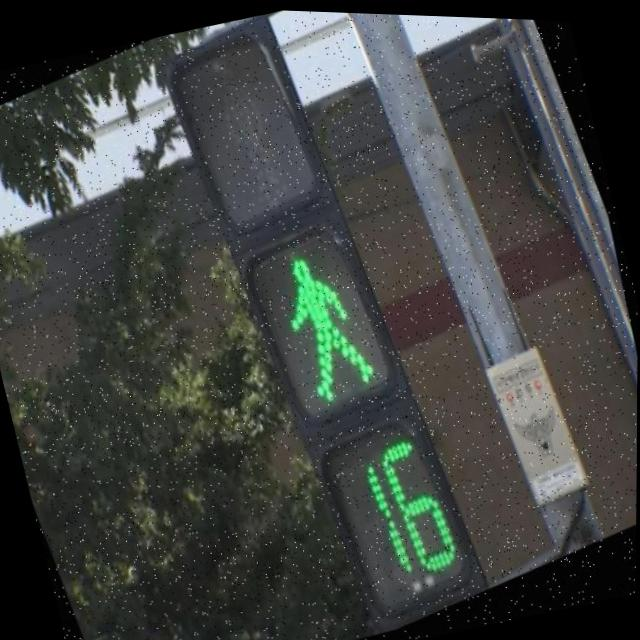green_light: (236, 212, 498, 631)
